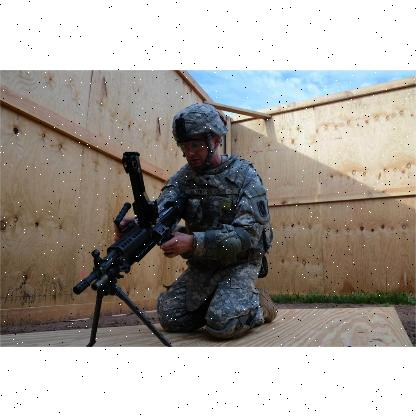gun: (77, 156, 225, 340)
